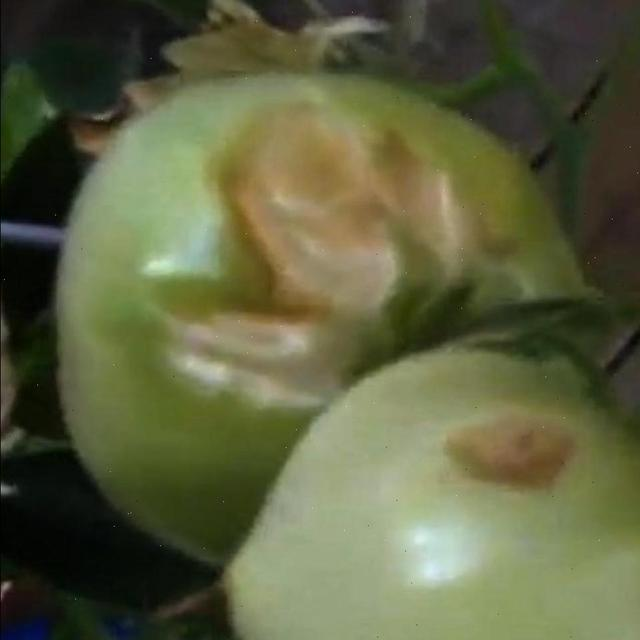Sunscald Fruit: (113, 69, 338, 301)
